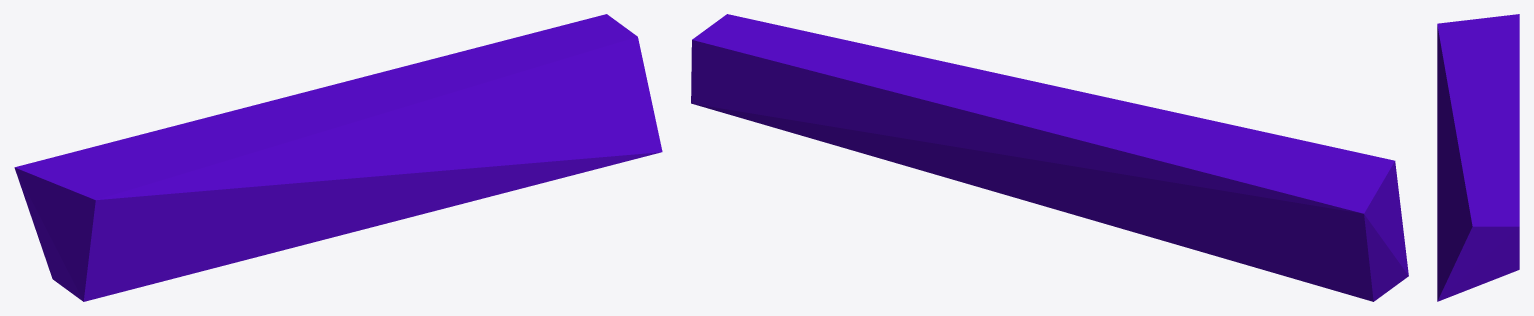
Rendered from garden_table_convex_piece_001.obj.
3 renders of one model, left to right at view 1: azimuth 30°, elevation 25°; view 2: azimuth 150°, elevation 25°; view 3: azimuth 270°, elevation 25°, orthographic. The views are drawn at different scales.
Bounding box in the file's own units: 0.2463 × 0.0425 × 0.0391.
